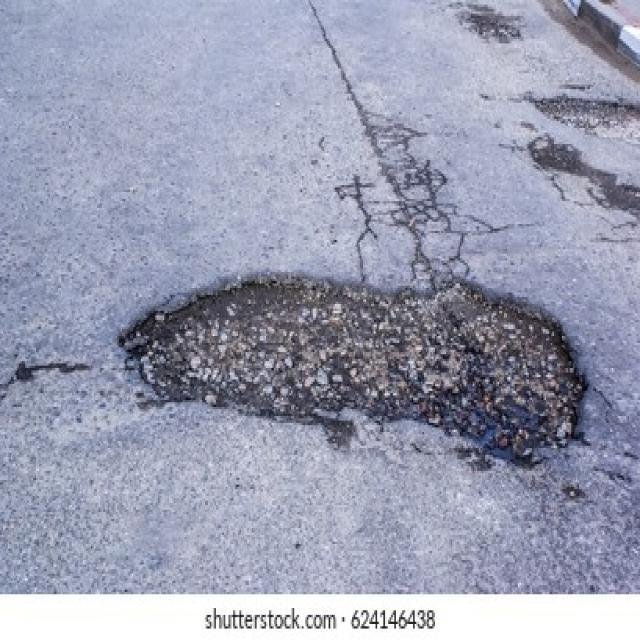Pothole: (117, 270, 590, 476), (529, 96, 640, 142)
